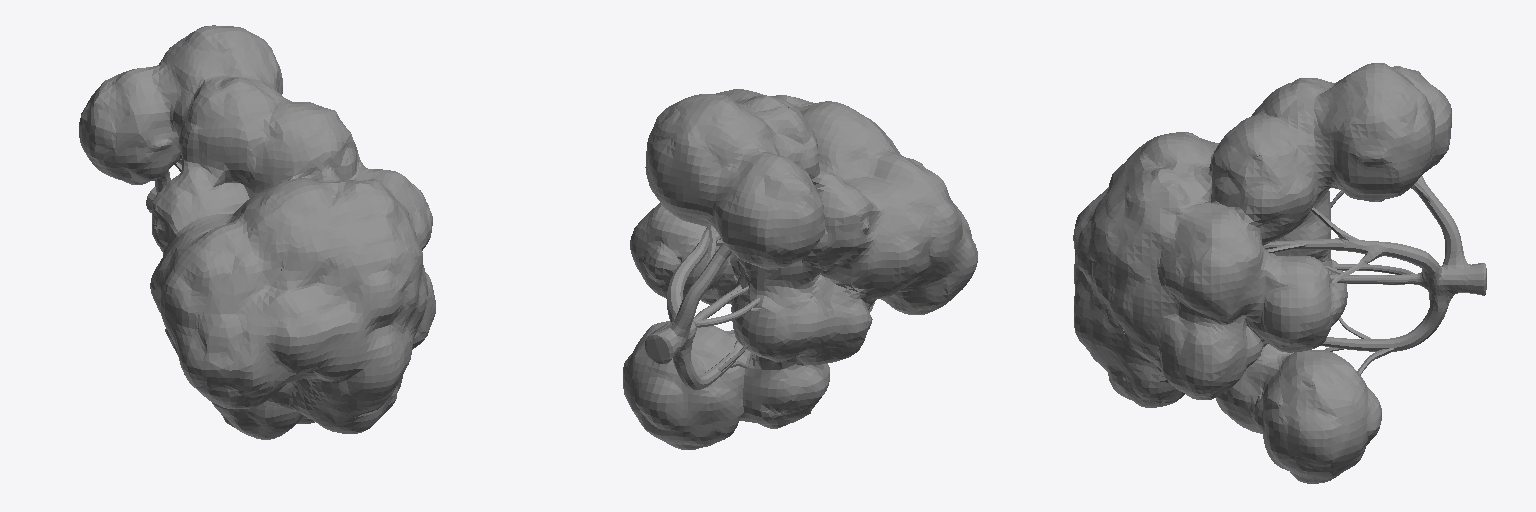
Rendered from tree.obj.
The picture shows the model from 3 angles: view 1: azimuth 30°, elevation 25°; view 2: azimuth 150°, elevation 25°; view 3: azimuth 270°, elevation 25°; orthographic projection.
Visible parts, largest first — view 1: 10445_Oak_tree_v1_SG; view 2: 10445_Oak_tree_v1_SG; view 3: 10445_Oak_tree_v1_SG.
Part boxes in pixels (bbox=[...]): 10445_Oak_tree_v1_SG: bbox=[79, 25, 435, 439]; 10445_Oak_tree_v1_SG: bbox=[623, 89, 977, 449]; 10445_Oak_tree_v1_SG: bbox=[1073, 63, 1486, 483].
Bounding box in the file's own units: 464 × 608 × 596.